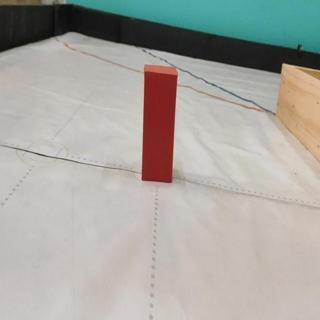redbox: (143, 62, 178, 184)
